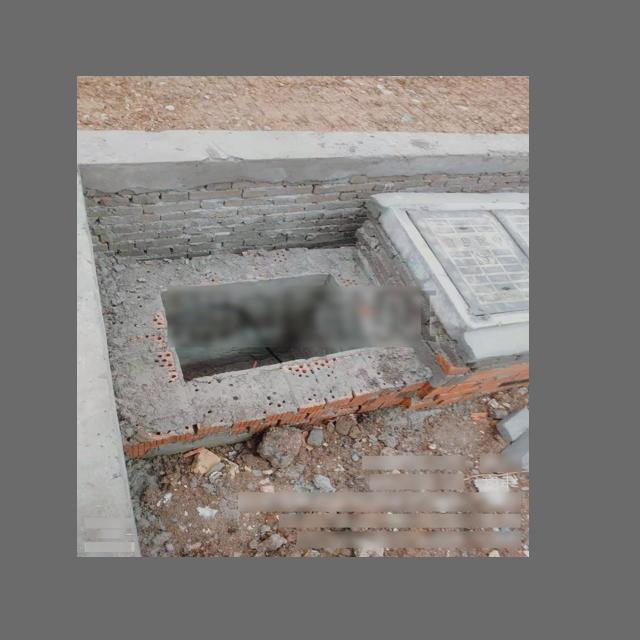lose: (159, 270, 378, 383)
